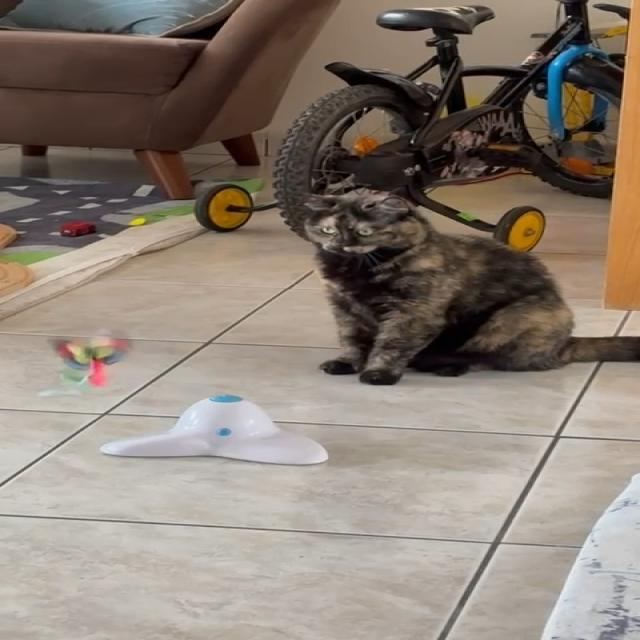authorized: (296, 187, 639, 386)
